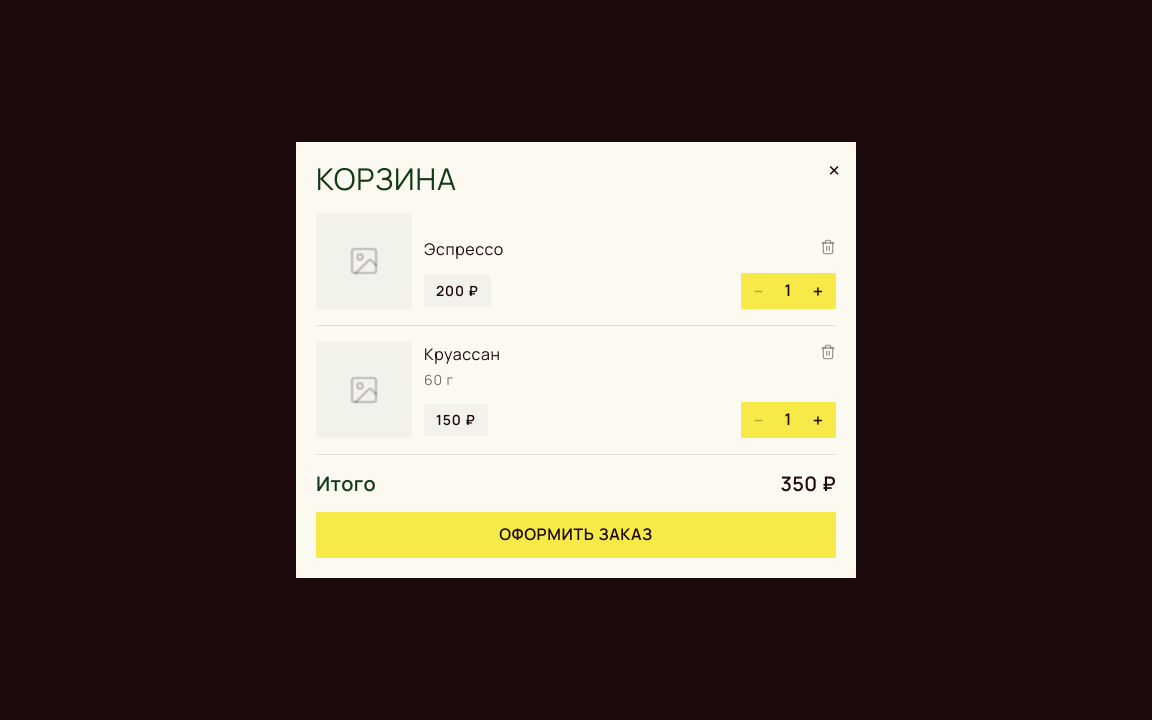
Test: CartWidget — корзина с товарами › клик «Оформить заказ» переключает виджет на шаг checkout
Click the button "Оформить заказ" at (576, 535), box [316,512,836,558]
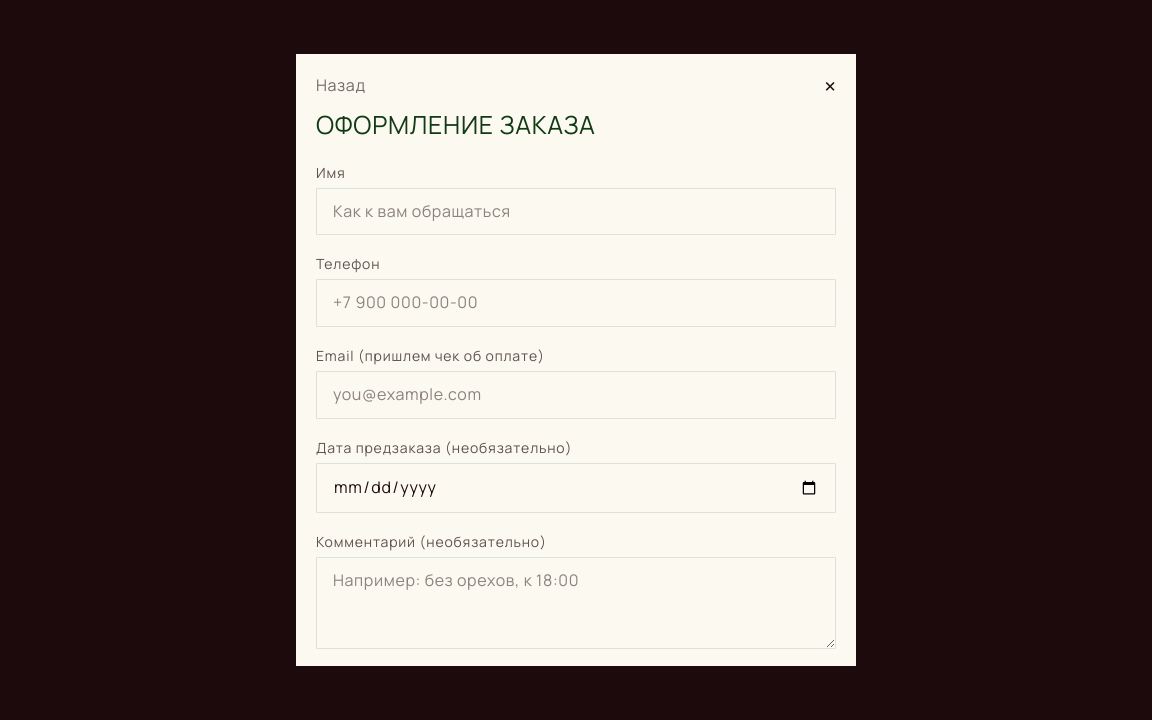
Expected: the dialog "Оформление заказа" is shown, [296,54,856,666]
